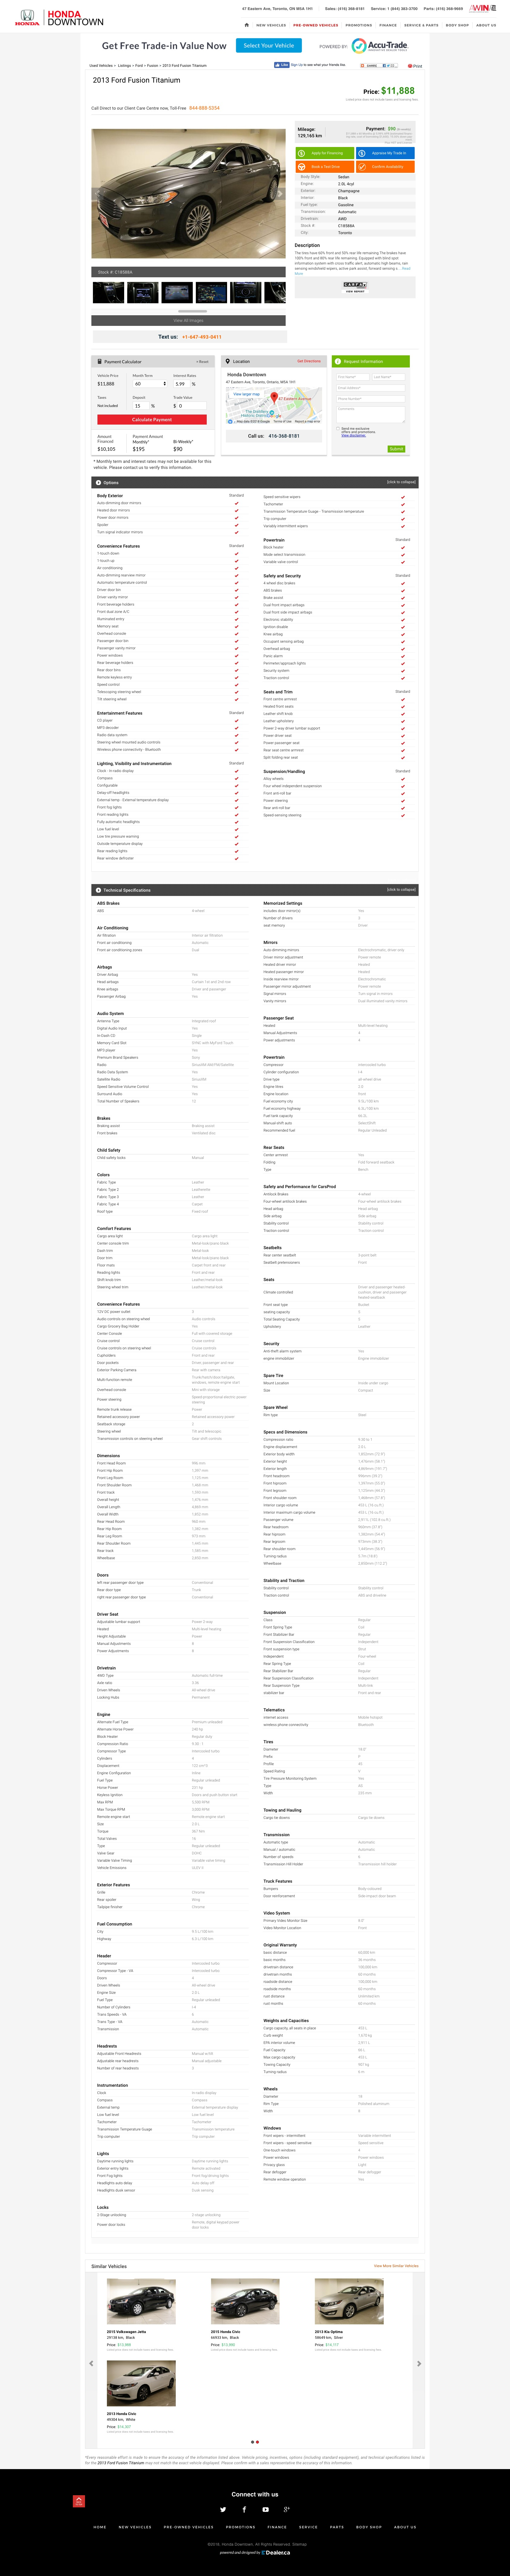car: (277, 191, 284, 199)
